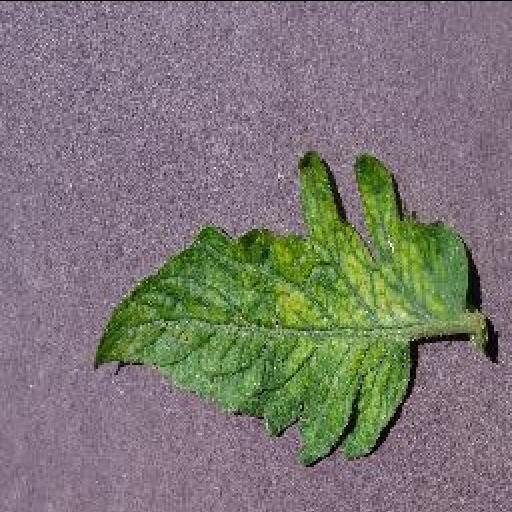Mosaic Virus: (86, 146, 476, 468)
